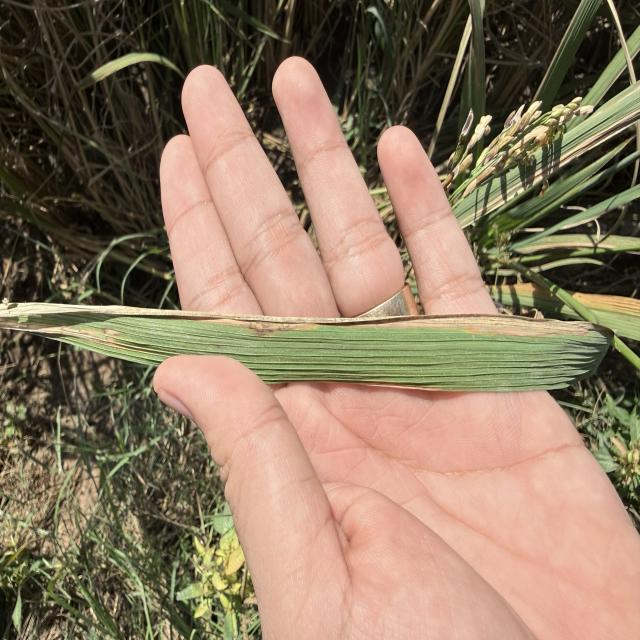Chay bia la: (0, 302, 597, 340), (0, 319, 148, 353)
